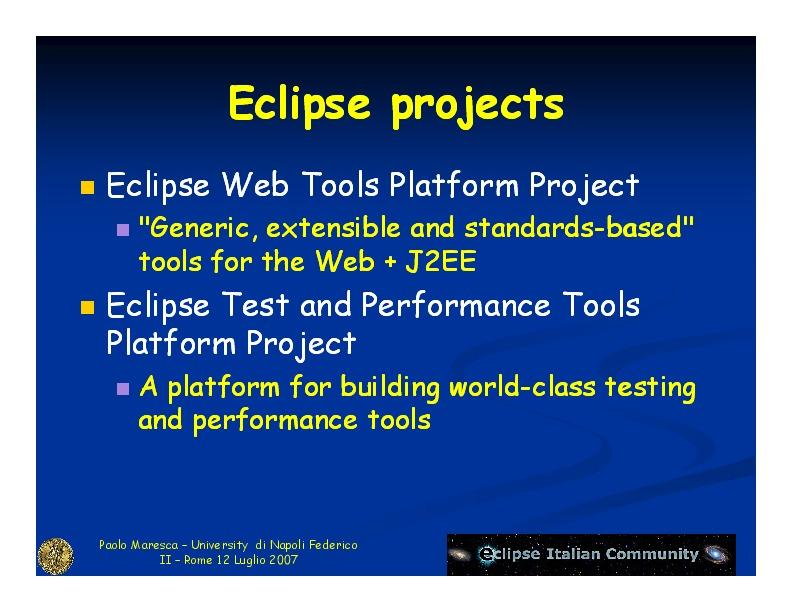paragraph: (71, 156, 712, 470)
subtitle: (90, 510, 758, 572)
title: (222, 71, 569, 132)
